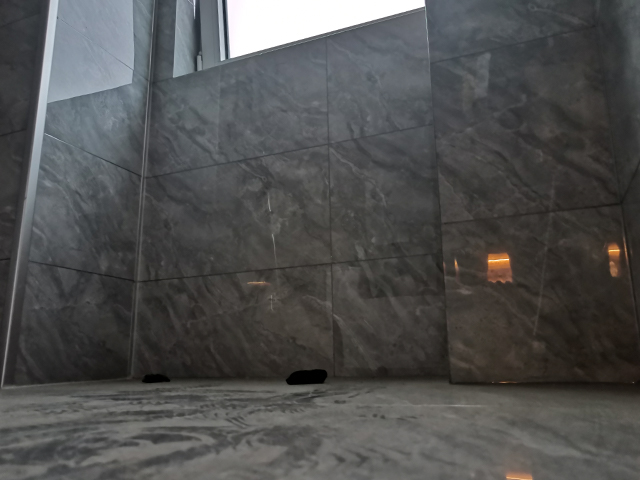feces: (285, 368, 327, 386), (140, 371, 173, 384)
